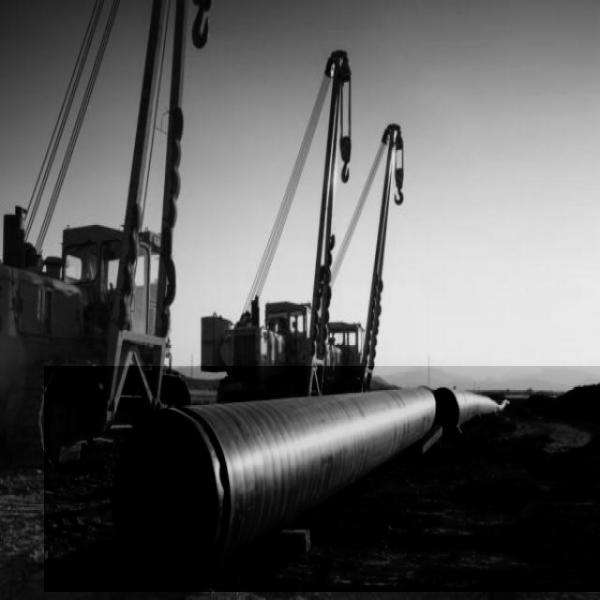crack: (44, 366, 600, 592)
